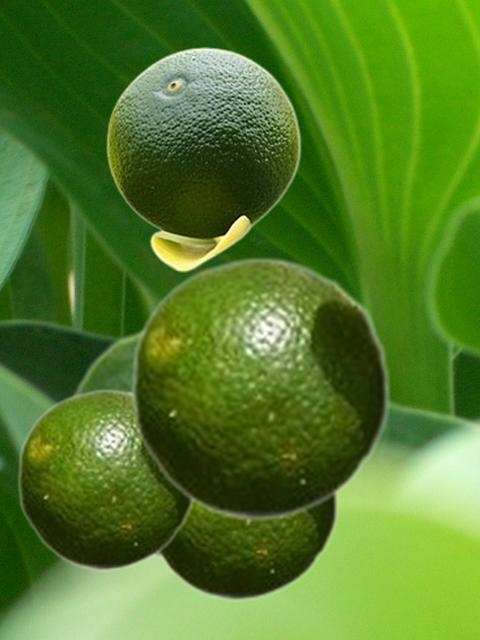calamansi: (129, 256, 391, 520), (106, 47, 300, 271), (16, 388, 195, 570), (67, 321, 160, 560), (155, 496, 339, 600)
